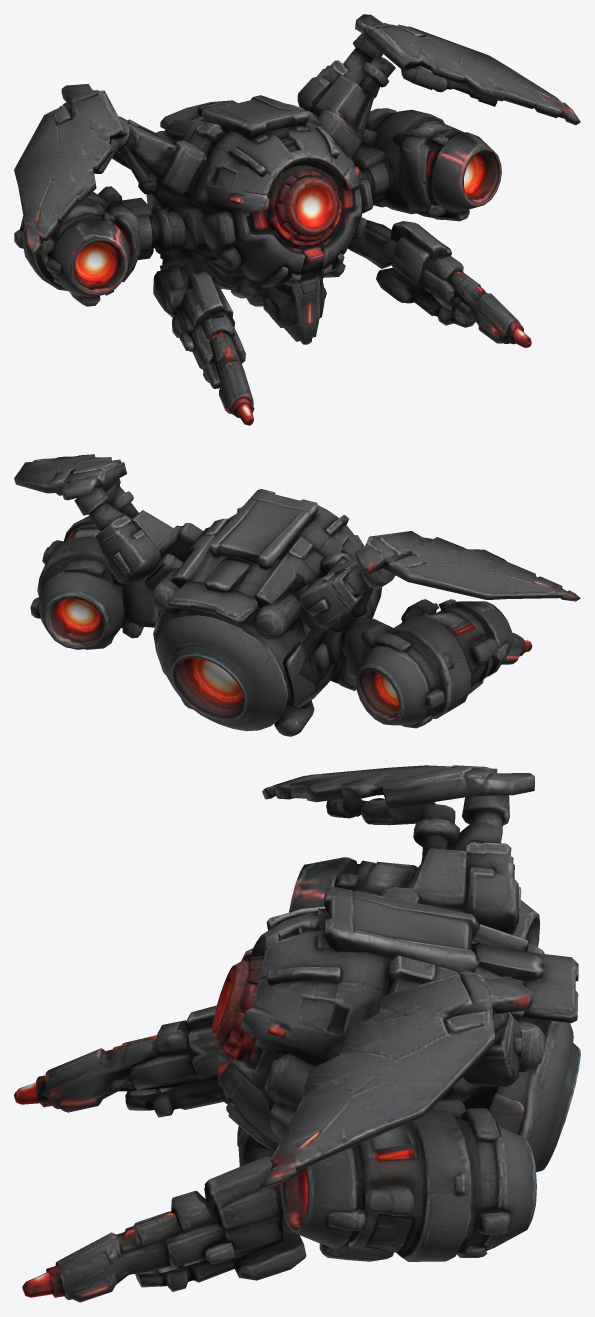
Rendered from Heavy.glb.
The picture shows the model from 3 angles, top to bottom: view 1: azimuth 30°, elevation 25°; view 2: azimuth 150°, elevation 25°; view 3: azimuth 270°, elevation 25°; orthographic projection. The views are drawn at different scales.
Parts seen in each view (by area): view 1: tripo_node_5a61cc68-a9a0-496a-b747-59d7ffaac99d; view 2: tripo_node_5a61cc68-a9a0-496a-b747-59d7ffaac99d; view 3: tripo_node_5a61cc68-a9a0-496a-b747-59d7ffaac99d.
Boxes of the visible parts, <box> form: tripo_node_5a61cc68-a9a0-496a-b747-59d7ffaac99d: <box>14,14,580,425</box>; tripo_node_5a61cc68-a9a0-496a-b747-59d7ffaac99d: <box>14,454,580,736</box>; tripo_node_5a61cc68-a9a0-496a-b747-59d7ffaac99d: <box>14,765,580,1302</box>.
Size of the model in its own units: 0.9995 by 0.4048 by 0.604.
Materials: 1 (1 with a texture image).
